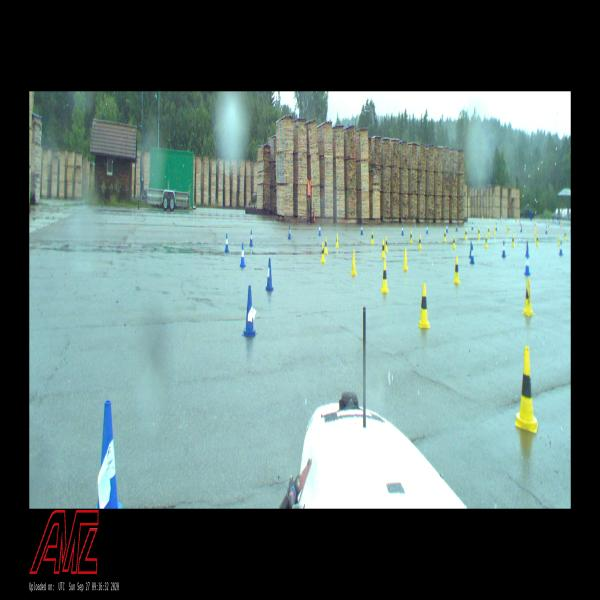blue_cone: (95, 400, 124, 508), (242, 286, 257, 336), (266, 258, 274, 290), (240, 242, 245, 268), (525, 253, 530, 275), (224, 233, 229, 252), (501, 241, 506, 257), (470, 245, 474, 264), (249, 230, 253, 247), (469, 241, 473, 258), (559, 241, 563, 255), (526, 240, 529, 258), (288, 226, 291, 238), (401, 224, 404, 235), (319, 223, 321, 236), (361, 223, 363, 235), (426, 224, 428, 234), (446, 224, 448, 232), (495, 222, 497, 230), (456, 224, 458, 231), (472, 222, 473, 230)
yellow_cone: (515, 347, 538, 432), (418, 283, 430, 328), (522, 278, 533, 315), (381, 261, 389, 293), (453, 256, 460, 283), (351, 250, 357, 275), (320, 242, 326, 263), (403, 248, 408, 270), (382, 240, 386, 258), (324, 237, 328, 254), (484, 232, 488, 248), (385, 236, 388, 252), (336, 233, 339, 248), (371, 231, 374, 244), (453, 235, 456, 248), (418, 235, 421, 248), (536, 235, 539, 246), (558, 234, 561, 245), (564, 231, 567, 240), (512, 234, 514, 247), (410, 230, 412, 243), (465, 227, 467, 239), (478, 226, 480, 238), (444, 230, 446, 241), (488, 226, 490, 236), (534, 226, 536, 235), (494, 226, 496, 234), (507, 226, 508, 234)
